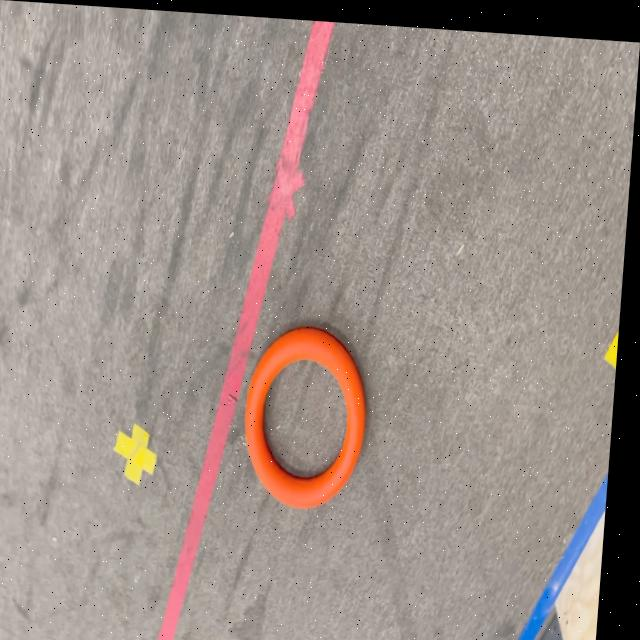note: (245, 321, 377, 506)
